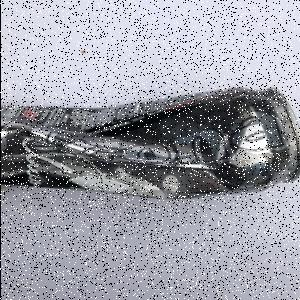Can: (2, 87, 300, 202)
